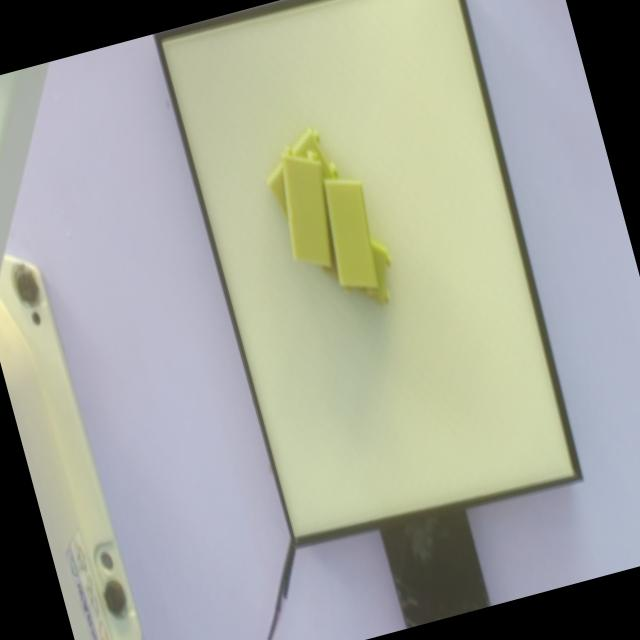bateria: (323, 177, 379, 295), (281, 148, 332, 270)
mesa: (154, 0, 584, 548)
